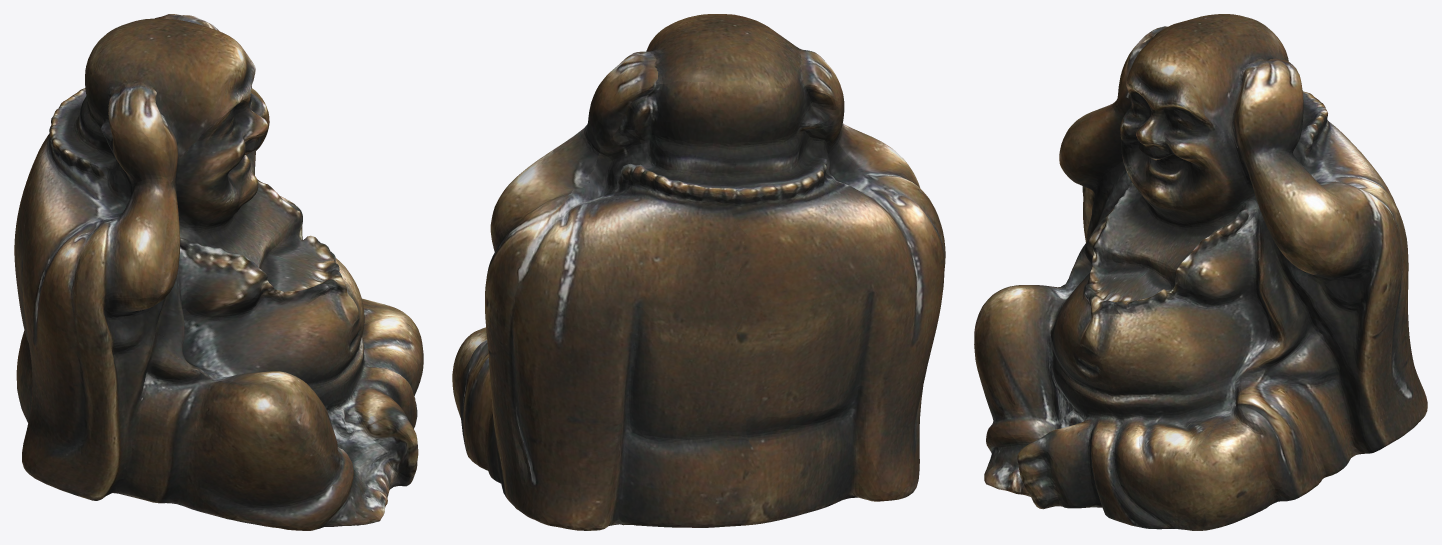
Rendered from buddha2.obj.
3 views of the same model, side by side, from view 1: azimuth 30°, elevation 25°; view 2: azimuth 150°, elevation 25°; view 3: azimuth 270°, elevation 25° (orthographic). The views are drawn at different scales.
Visible parts, largest first — view 1: buddha2; view 2: buddha2; view 3: buddha2.
Part boxes in pixels (x1,y1,x2,y2): buddha2: (14, 14, 423, 530); buddha2: (452, 14, 945, 530); buddha2: (974, 14, 1427, 530).
Size of the model in its own units: 2.67 by 2.74 by 2.71.
Materials: 1 (1 with a texture image).
